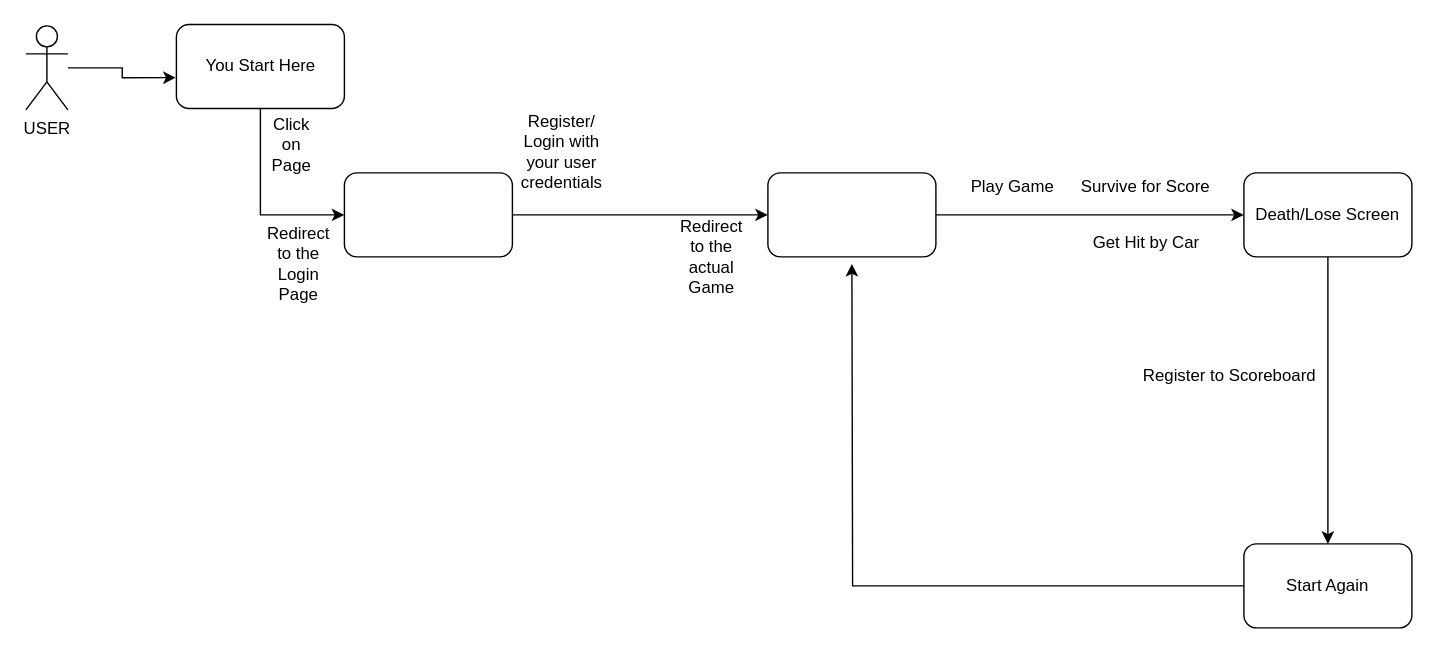
This 1436x652 diagram has some shape labels left out. Each missing label, with the centre of its shape:
"Game Screen" goes at (851,214).
"Registration/Login" goes at (427,214).
